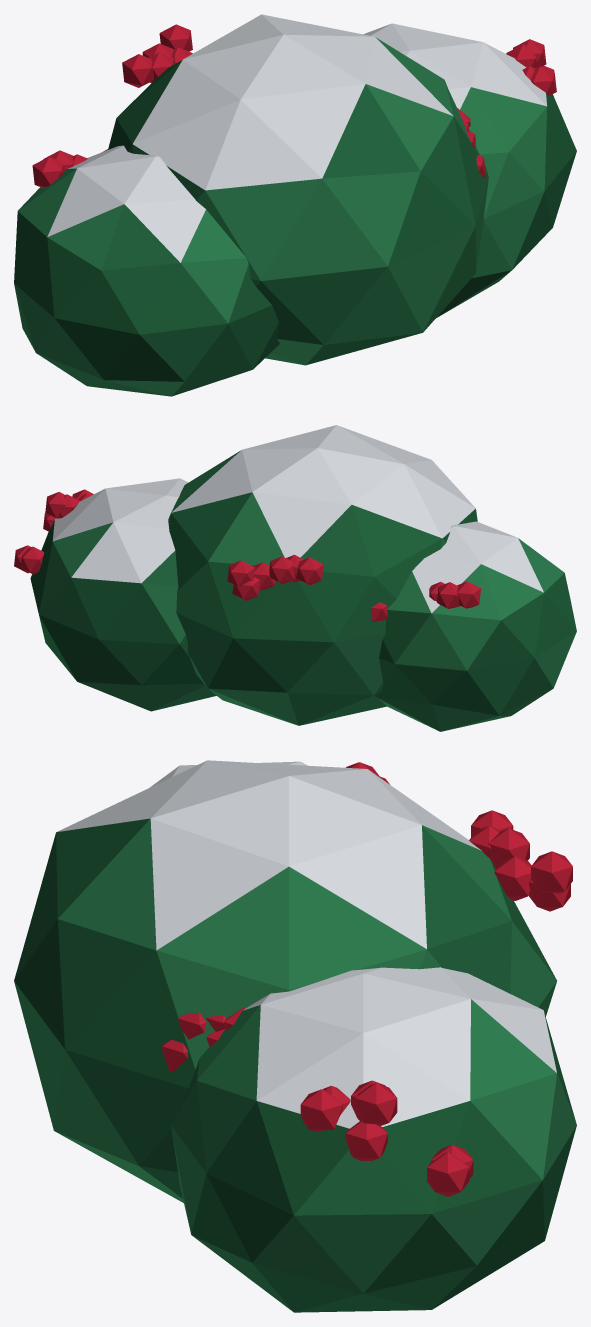
File: Bush_Holly.glb
3 renders of one model, top to bottom at view 1: azimuth 30°, elevation 25°; view 2: azimuth 150°, elevation 25°; view 3: azimuth 270°, elevation 25°, orthographic. The views are drawn at different scales.
Parts seen in each view (by area): view 1: Bush_Holly; view 2: Bush_Holly; view 3: Bush_Holly.
Part boxes in pixels (<box>): Bush_Holly: <box>14,14,576,396</box>; Bush_Holly: <box>14,425,576,731</box>; Bush_Holly: <box>14,760,576,1312</box>.
Bounding box in the file's own units: 3.54 × 1.89 × 2.27.
